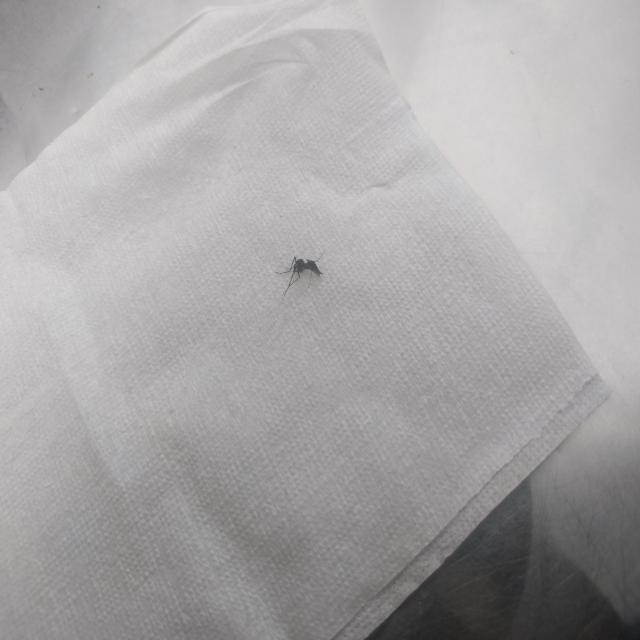albopictus: (274, 243, 327, 304)
